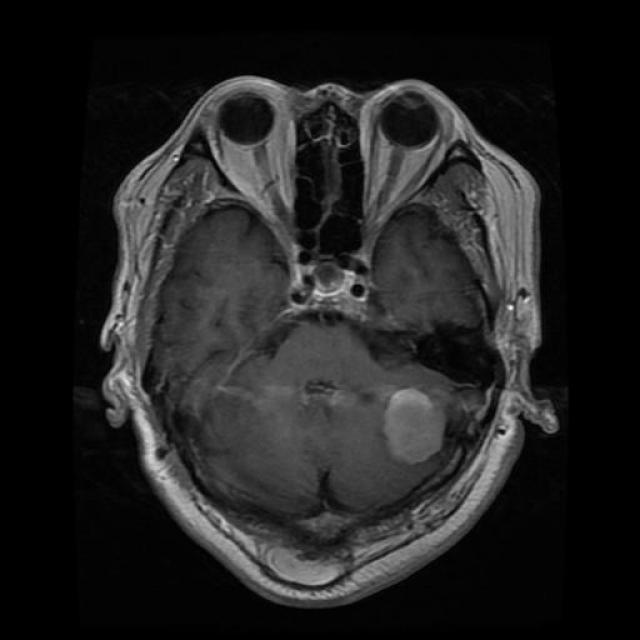Brain-Tumor: (374, 371, 455, 475)
eye: (199, 58, 306, 242), (358, 58, 458, 247)
